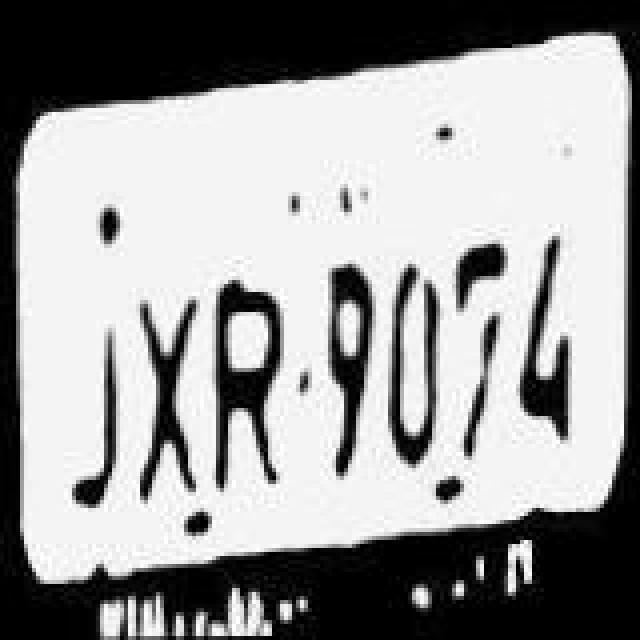4: (518, 226, 582, 474)
7: (448, 230, 508, 470)
9: (318, 238, 382, 490)
J: (66, 290, 122, 514)
O: (382, 246, 446, 482)
R: (208, 264, 284, 500)
X: (130, 278, 202, 502)
